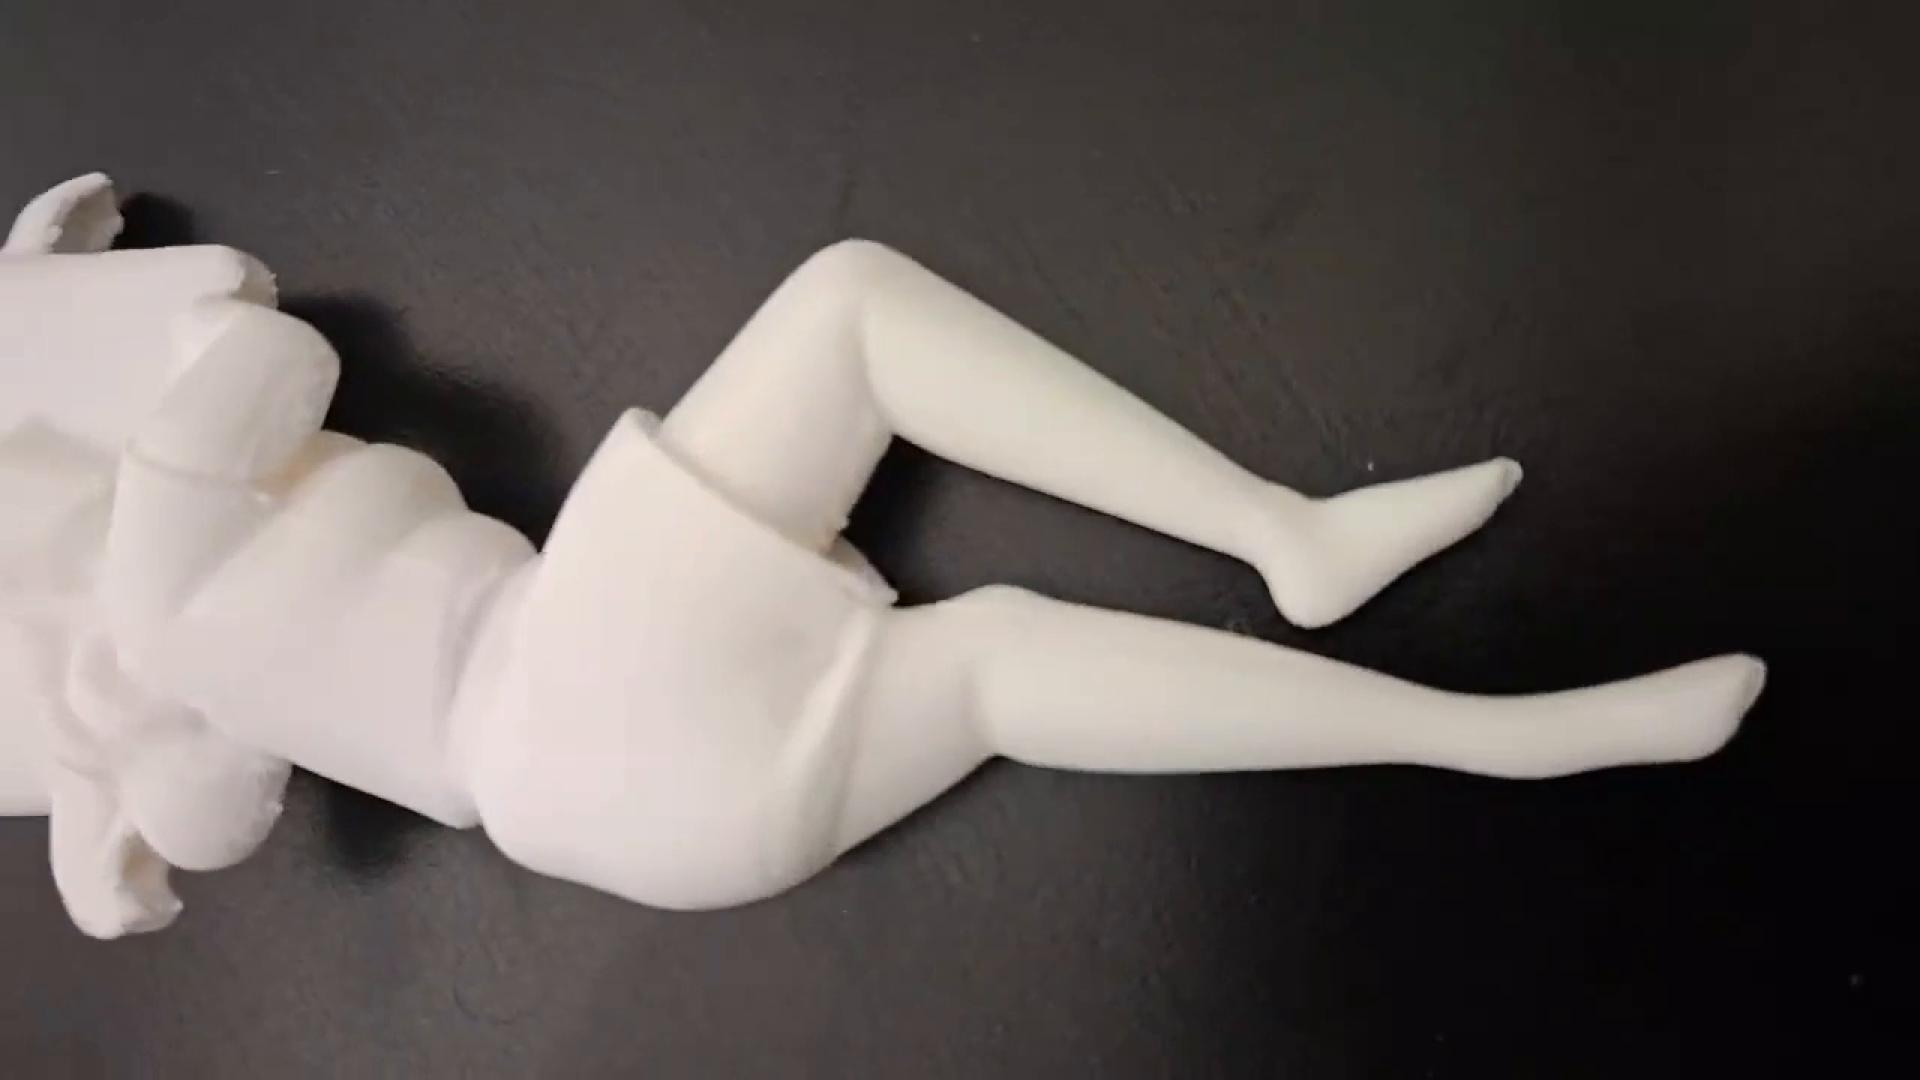Good-style: (3, 160, 1772, 945)
